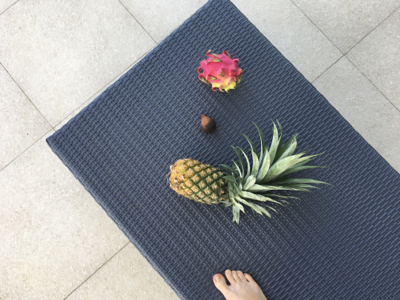dragon fruit: (198, 50, 244, 94)
pineapple: (158, 125, 331, 217)
snake fruit: (199, 112, 218, 136)
